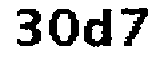0: (47, 5, 79, 50)
3: (10, 6, 44, 51)
7: (117, 3, 150, 51)
d: (82, 6, 116, 52)
